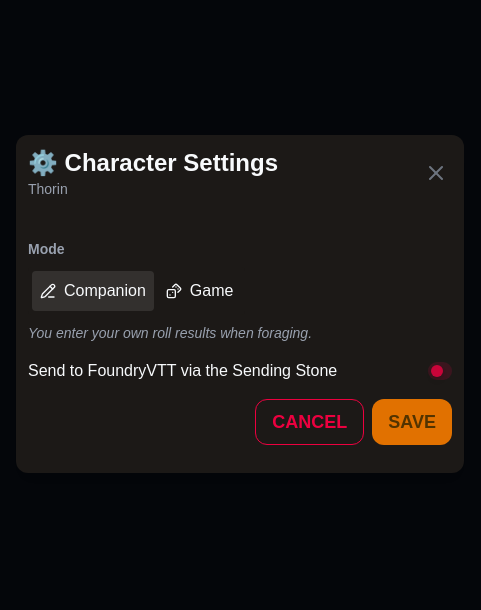
components/modals/character-settings-modal › should show the link code form once sending is on
Click the checkbox labelled "Send to FoundryVTT via the Sending Stone" at point(240, 371), box [28,359,452,383]
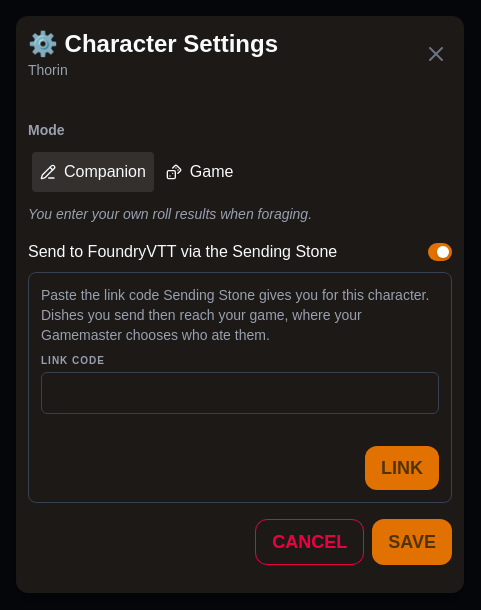
Expected: the field with test id "link-sending-stone-form__token" is shown, [41,372,439,414]
